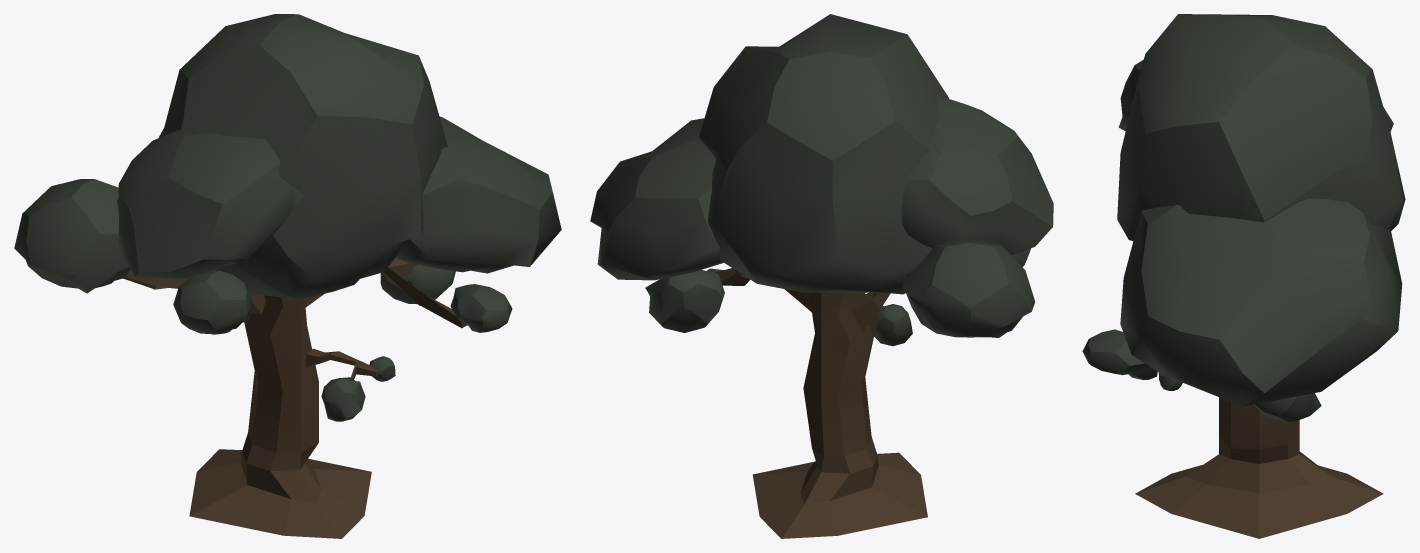
Rendered from Tree 5.fbx.
3 views of the same model, side by side, from view 1: azimuth 30°, elevation 25°; view 2: azimuth 150°, elevation 25°; view 3: azimuth 270°, elevation 25° (orthographic). The views are drawn at different scales.
Visible parts, largest first — view 1: polySurface1662; view 2: polySurface1662; view 3: polySurface1662.
Boxes of the visible parts, x1,y1,x2,y2 form: polySurface1662: (14, 14, 561, 538); polySurface1662: (590, 14, 1053, 538); polySurface1662: (1082, 14, 1405, 538).
Bounding box in the file's own units: 105 × 95.97 × 59.5.
